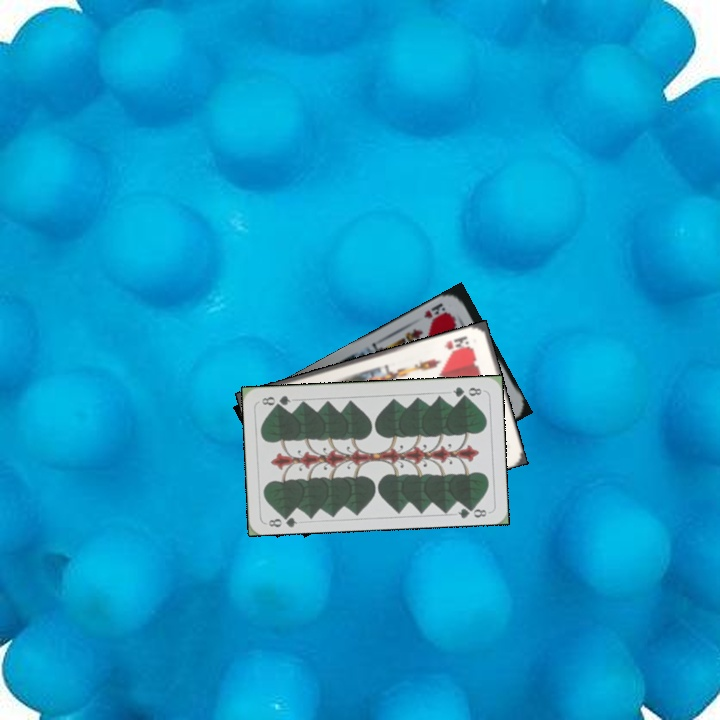G8: (265, 509, 299, 530), (449, 383, 486, 400)
HK: (440, 332, 472, 354), (420, 299, 448, 321)
